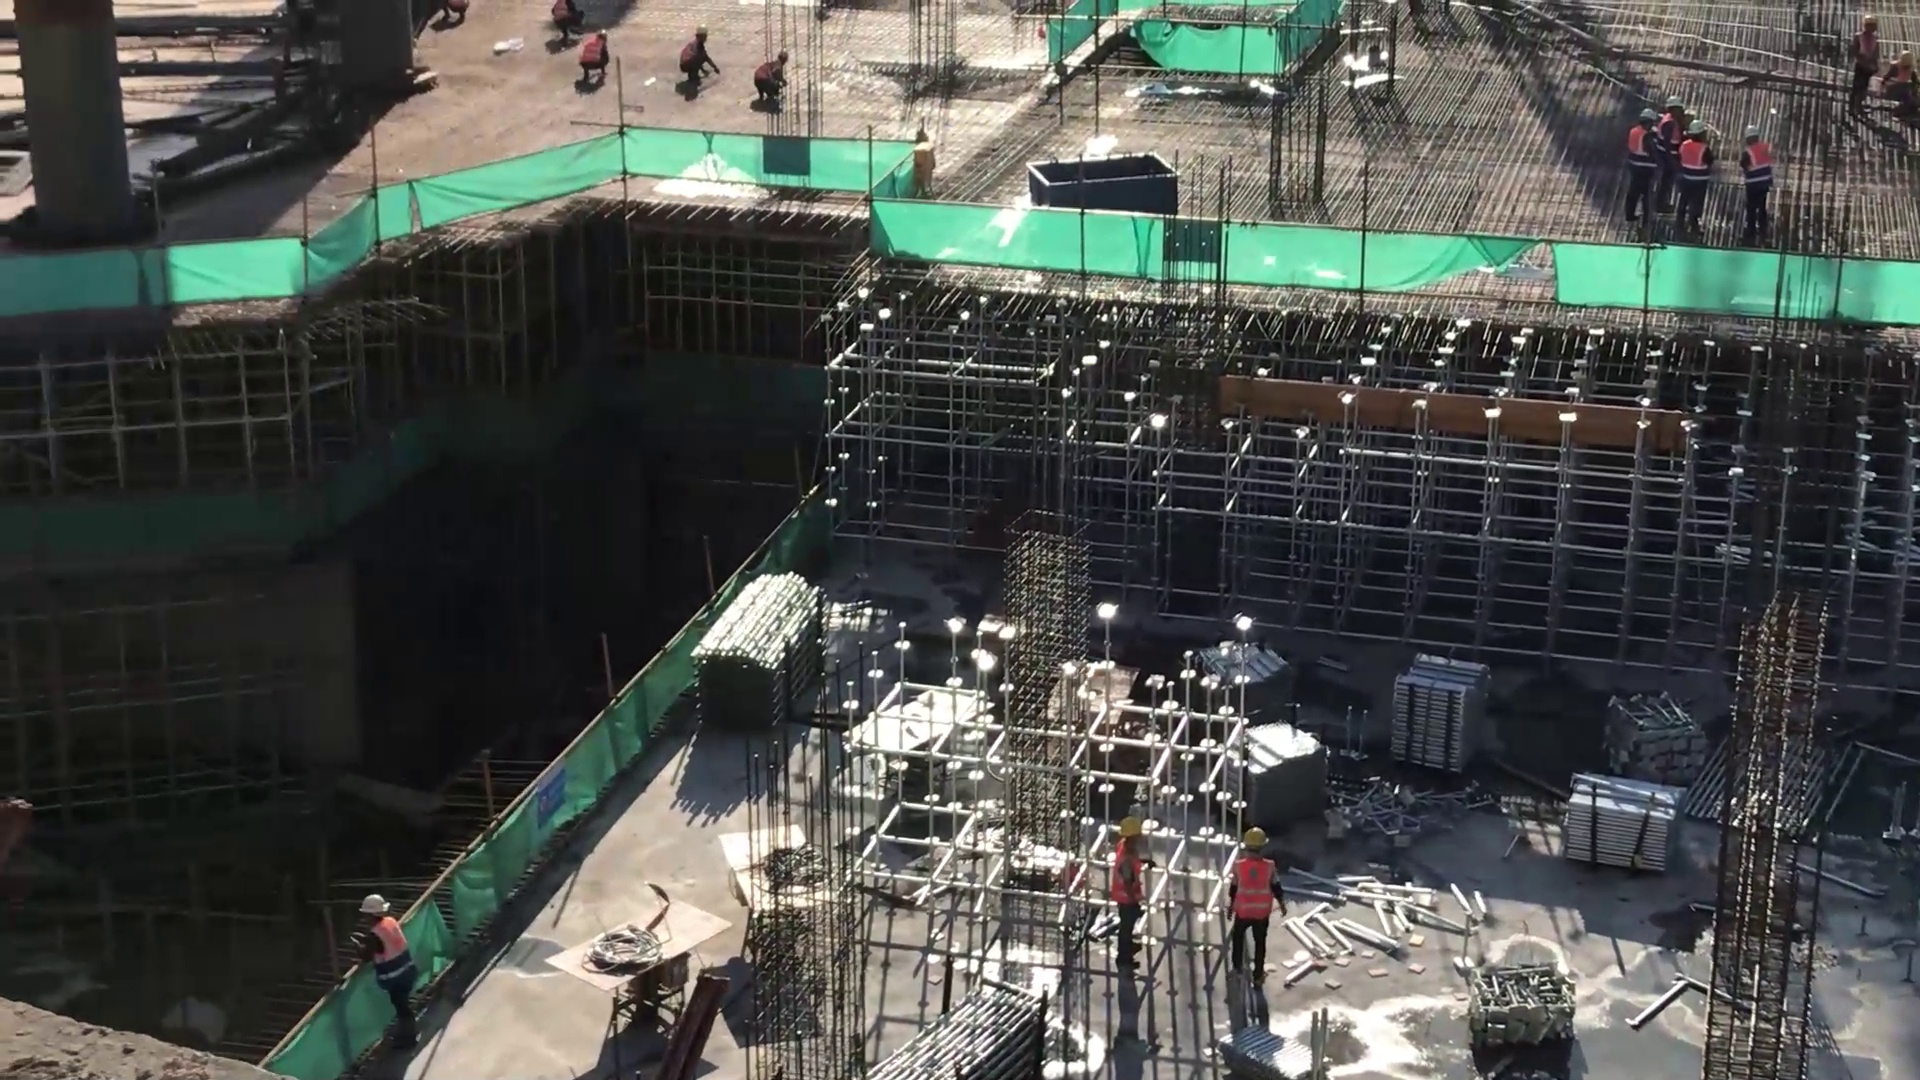helmet: (358, 895, 388, 915), (1244, 827, 1266, 846), (1121, 816, 1140, 838)
person: (342, 891, 425, 1043), (1224, 824, 1286, 988), (1101, 815, 1147, 969), (1662, 93, 1697, 212), (1738, 126, 1775, 234), (1846, 11, 1882, 119), (1683, 120, 1717, 230), (1627, 108, 1658, 219), (675, 20, 719, 93), (1883, 46, 1920, 122), (748, 46, 792, 100), (575, 29, 612, 87), (544, 1, 588, 38), (440, 1, 474, 24)
scaffold: (696, 561, 827, 727), (844, 972, 1034, 1080), (1371, 647, 1498, 784), (1550, 772, 1685, 888)
vest: (355, 922, 417, 993), (1229, 852, 1288, 923), (1114, 845, 1141, 905), (1680, 138, 1712, 187), (1629, 128, 1656, 172), (1744, 149, 1773, 189)
